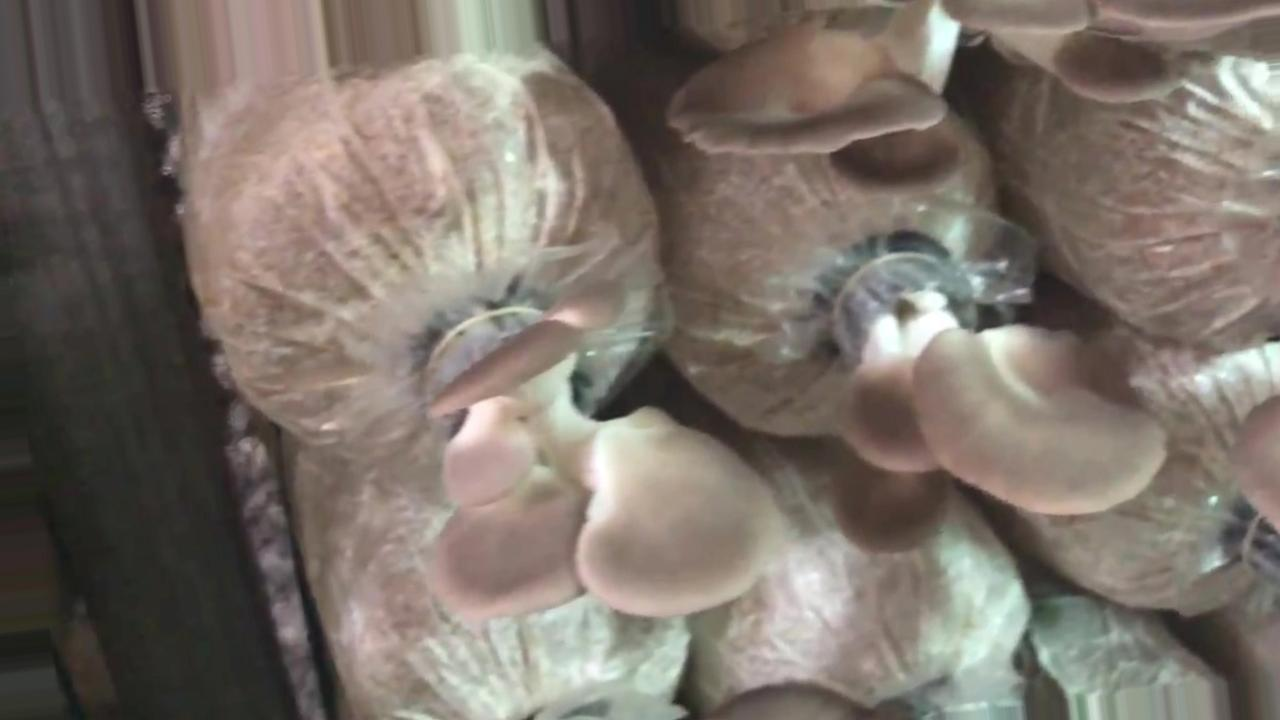nam: (418, 310, 775, 624), (825, 242, 1164, 555), (659, 39, 952, 195)
